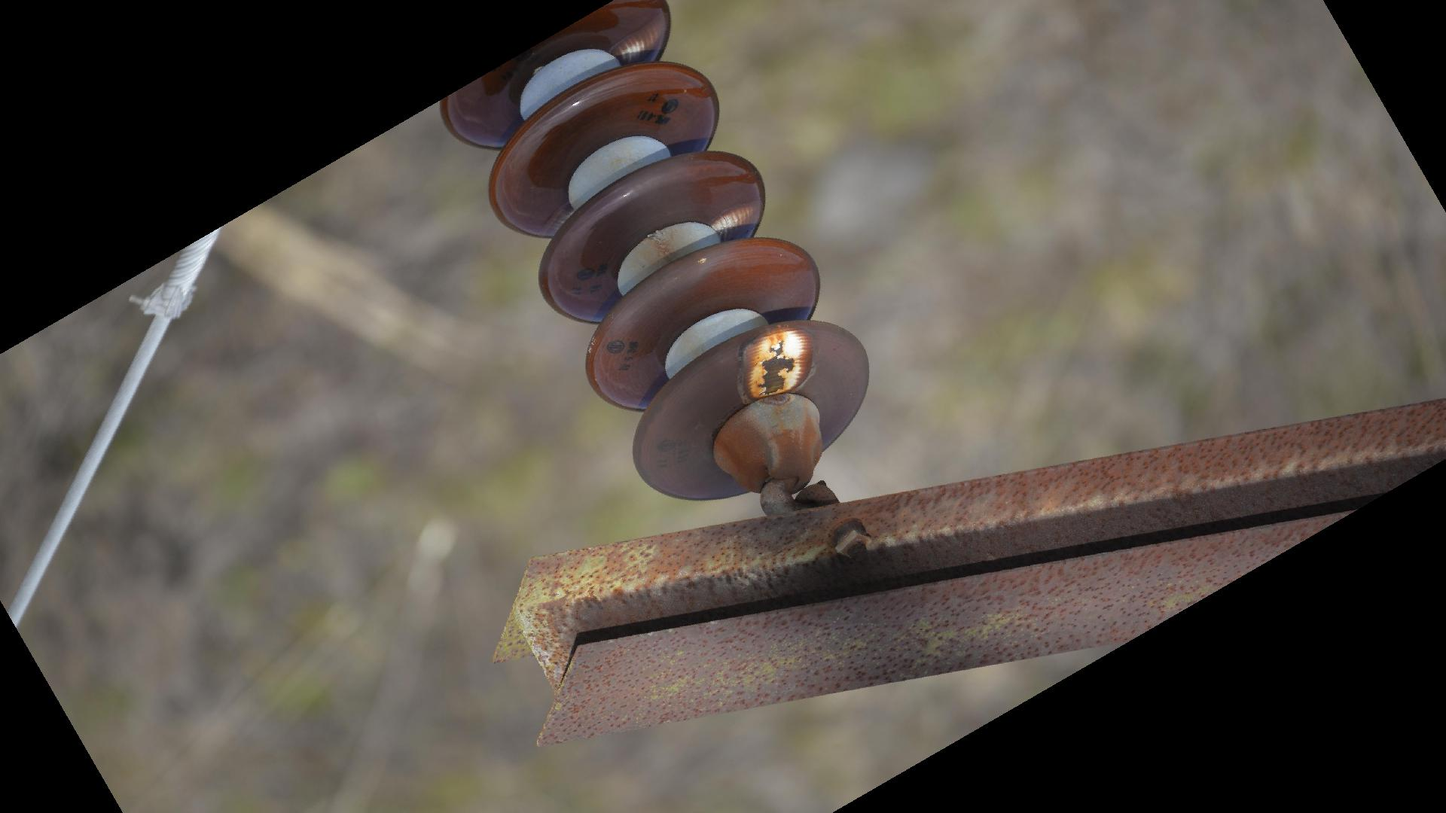insulator: (435, 1, 877, 504)
insulator_flashover: (739, 324, 817, 403), (608, 15, 673, 68), (711, 200, 762, 240)
